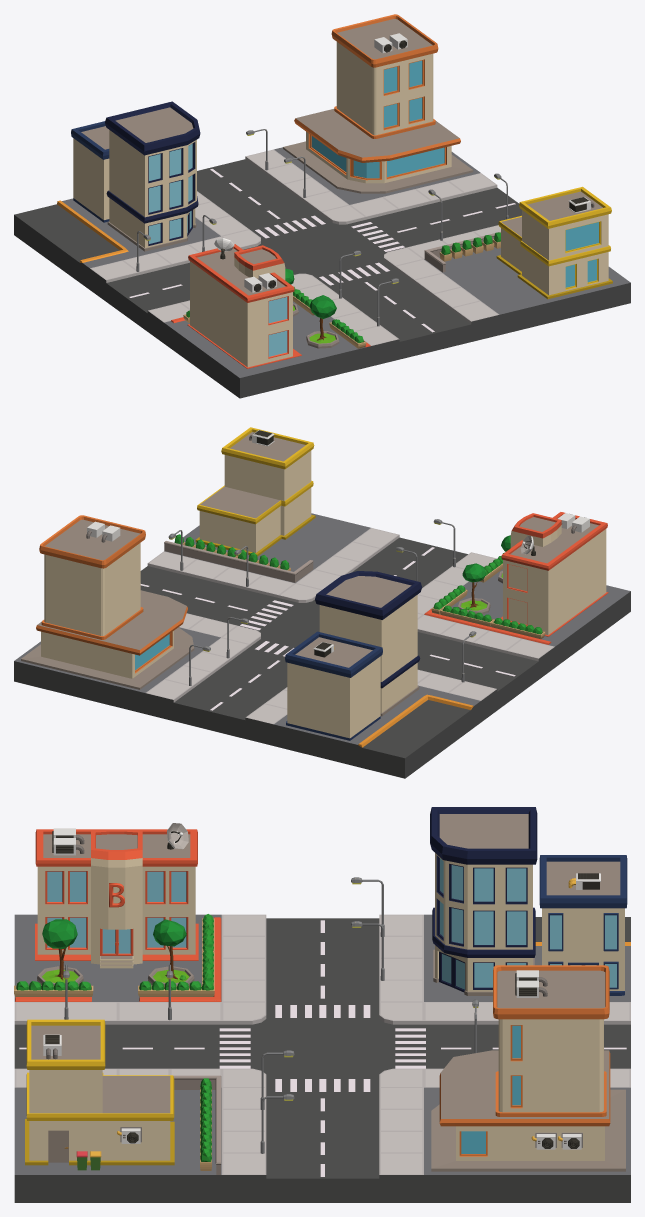
File: CityTraffic1.fbx
3 views of the same model, one above another, from view 1: azimuth 30°, elevation 25°; view 2: azimuth 150°, elevation 25°; view 3: azimuth 270°, elevation 25° (orthographic). The views are drawn at different scales.
Visible parts, largest first — view 1: Plane, Building2, Building5, Building5-Part, Building4, Building1, Building3, Building1-Part, Grass1, Tree2; view 2: Plane, Building4, Building5, Building2, Building5-Part, Building1, Building3, Wall, Grass1, Building1-Part, Plant_Base1, Grass2 (+1 smaller); view 3: Plane, Building2, Building4, Building5, Building5-Part, Building1, Building3, Building1-Part, Grass1, Building1_Dec, Plant_Base1, Wall (+6 smaller).
Part boxes in pixels (box(x1,y1,x2,y2)): Plane: box(14, 147, 630, 398); Building2: box(105, 101, 200, 251); Building5: box(331, 14, 438, 138); Building5-Part: box(283, 109, 473, 193); Building4: box(496, 186, 612, 299); Building1: box(188, 244, 294, 367); Building3: box(71, 121, 109, 222); Building1-Part: box(234, 245, 285, 279); Grass1: box(293, 232, 500, 343); Tree2: box(309, 295, 336, 340); Plane: box(14, 513, 630, 778); Building4: box(195, 427, 315, 556); Building5: box(39, 515, 145, 639); Building2: box(315, 571, 422, 716); Building5-Part: box(21, 590, 194, 689); Building1: box(501, 512, 607, 634); Building3: box(285, 631, 382, 740); Wall: box(164, 541, 313, 582); Grass1: box(174, 534, 504, 609); Building1-Part: box(510, 513, 561, 547); Plant_Base1: box(431, 563, 545, 639); Grass2: box(442, 605, 542, 634); Plane: box(14, 914, 630, 1202); Building2: box(430, 807, 537, 995); Building4: box(25, 1019, 174, 1165); Building5: box(493, 965, 609, 1116); Building5-Part: box(431, 1050, 625, 1171); Building1: box(35, 829, 197, 954); Building3: box(539, 855, 627, 995); Building1-Part: box(91, 829, 142, 968); Grass1: box(16, 981, 213, 1161); Building1_Dec: box(15, 917, 221, 1001); Plant_Base1: box(14, 918, 214, 997); Wall: box(173, 1075, 221, 1174).
Bounding box in the file's own units: 1483 × 509 × 1484.
